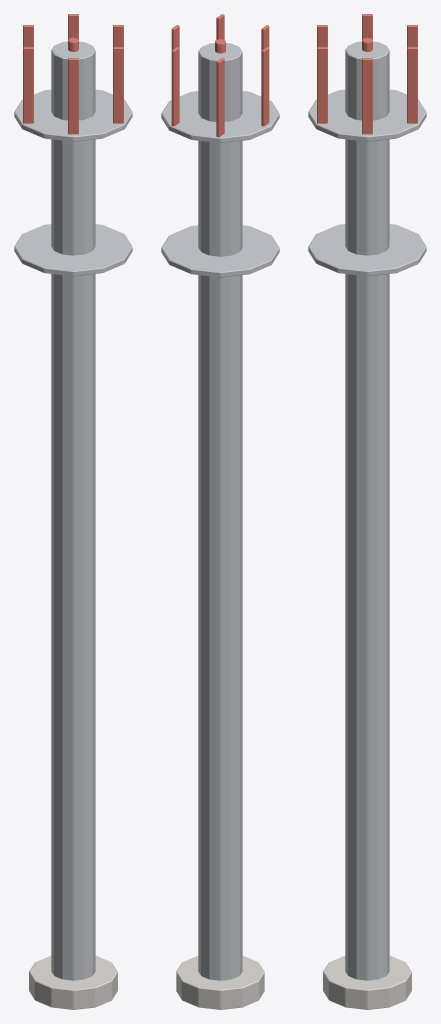
The model's file is 构筑_通信塔_01.fbx.
The picture shows the model from 3 angles, left to right: view 1: azimuth 90°, elevation 25°; view 2: azimuth 150°, elevation 25°; view 3: azimuth 270°, elevation 25°; orthographic projection.
Visible parts, largest first — view 1: 塔身.001, 平台.003, 天线, 基座.006; view 2: 塔身.001, 平台.003, 基座.006, 天线; view 3: 塔身.001, 平台.003, 天线, 基座.006.
Boxes of the visible parts, x1=… form: 塔身.001: x1=51, y1=41, x2=95, y2=980; 平台.003: x1=14, y1=89, x2=132, y2=276; 天线: x1=23, y1=14, x2=123, y2=134; 基座.006: x1=29, y1=955, x2=117, y2=1009; 塔身.001: x1=198, y1=43, x2=242, y2=980; 平台.003: x1=161, y1=91, x2=279, y2=277; 基座.006: x1=176, y1=956, x2=264, y2=1009; 天线: x1=171, y1=14, x2=269, y2=137; 塔身.001: x1=345, y1=41, x2=389, y2=980; 平台.003: x1=308, y1=89, x2=426, y2=276; 天线: x1=317, y1=14, x2=417, y2=134; 基座.006: x1=323, y1=955, x2=411, y2=1009.
Size of the model in its own units: 319 by 2840 by 319.
